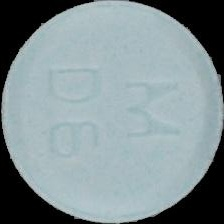52125-666: (0, 0, 224, 224)
